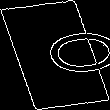O_W: (6, 29, 104, 81)
